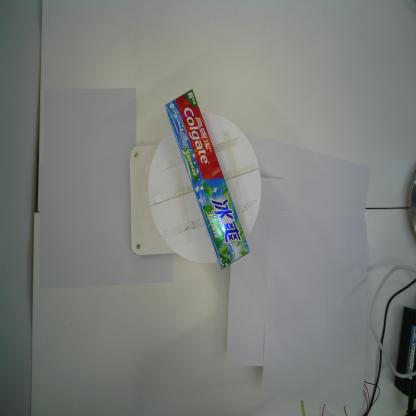Personal Hygiene: (164, 87, 250, 272)
